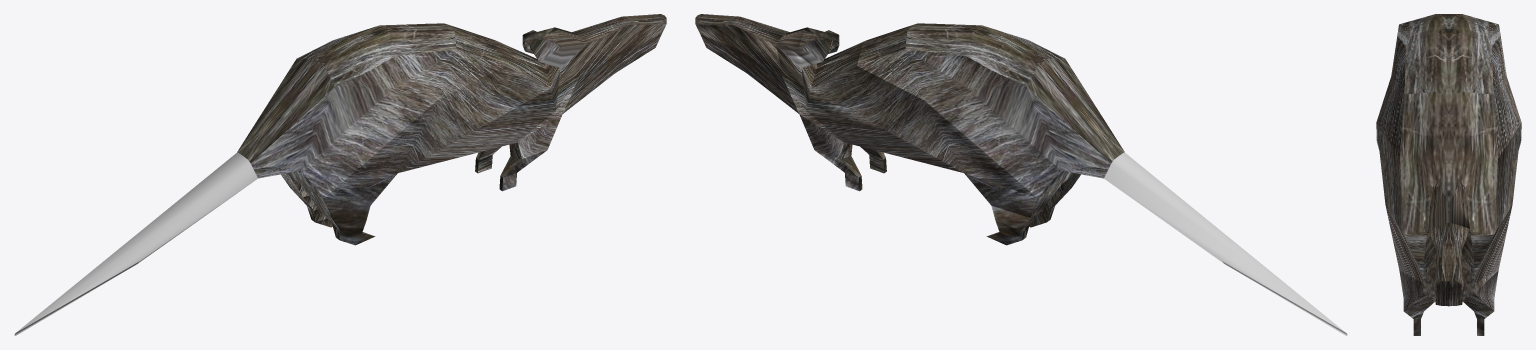
File: possuim.fbx
The picture shows the model from 3 angles, left to right: view 1: azimuth 30°, elevation 25°; view 2: azimuth 150°, elevation 25°; view 3: azimuth 270°, elevation 25°; orthographic projection. The views are drawn at different scales.
Visible parts, largest first — view 1: Plane; view 2: Plane; view 3: Plane.
Part boxes in pixels (left/top/right/bottom): Plane: left=14, top=14, right=666, bottom=335; Plane: left=695, top=14, right=1347, bottom=335; Plane: left=1376, top=14, right=1521, bottom=335.
Bounding box in the file's own units: 2283 × 727 × 341.
